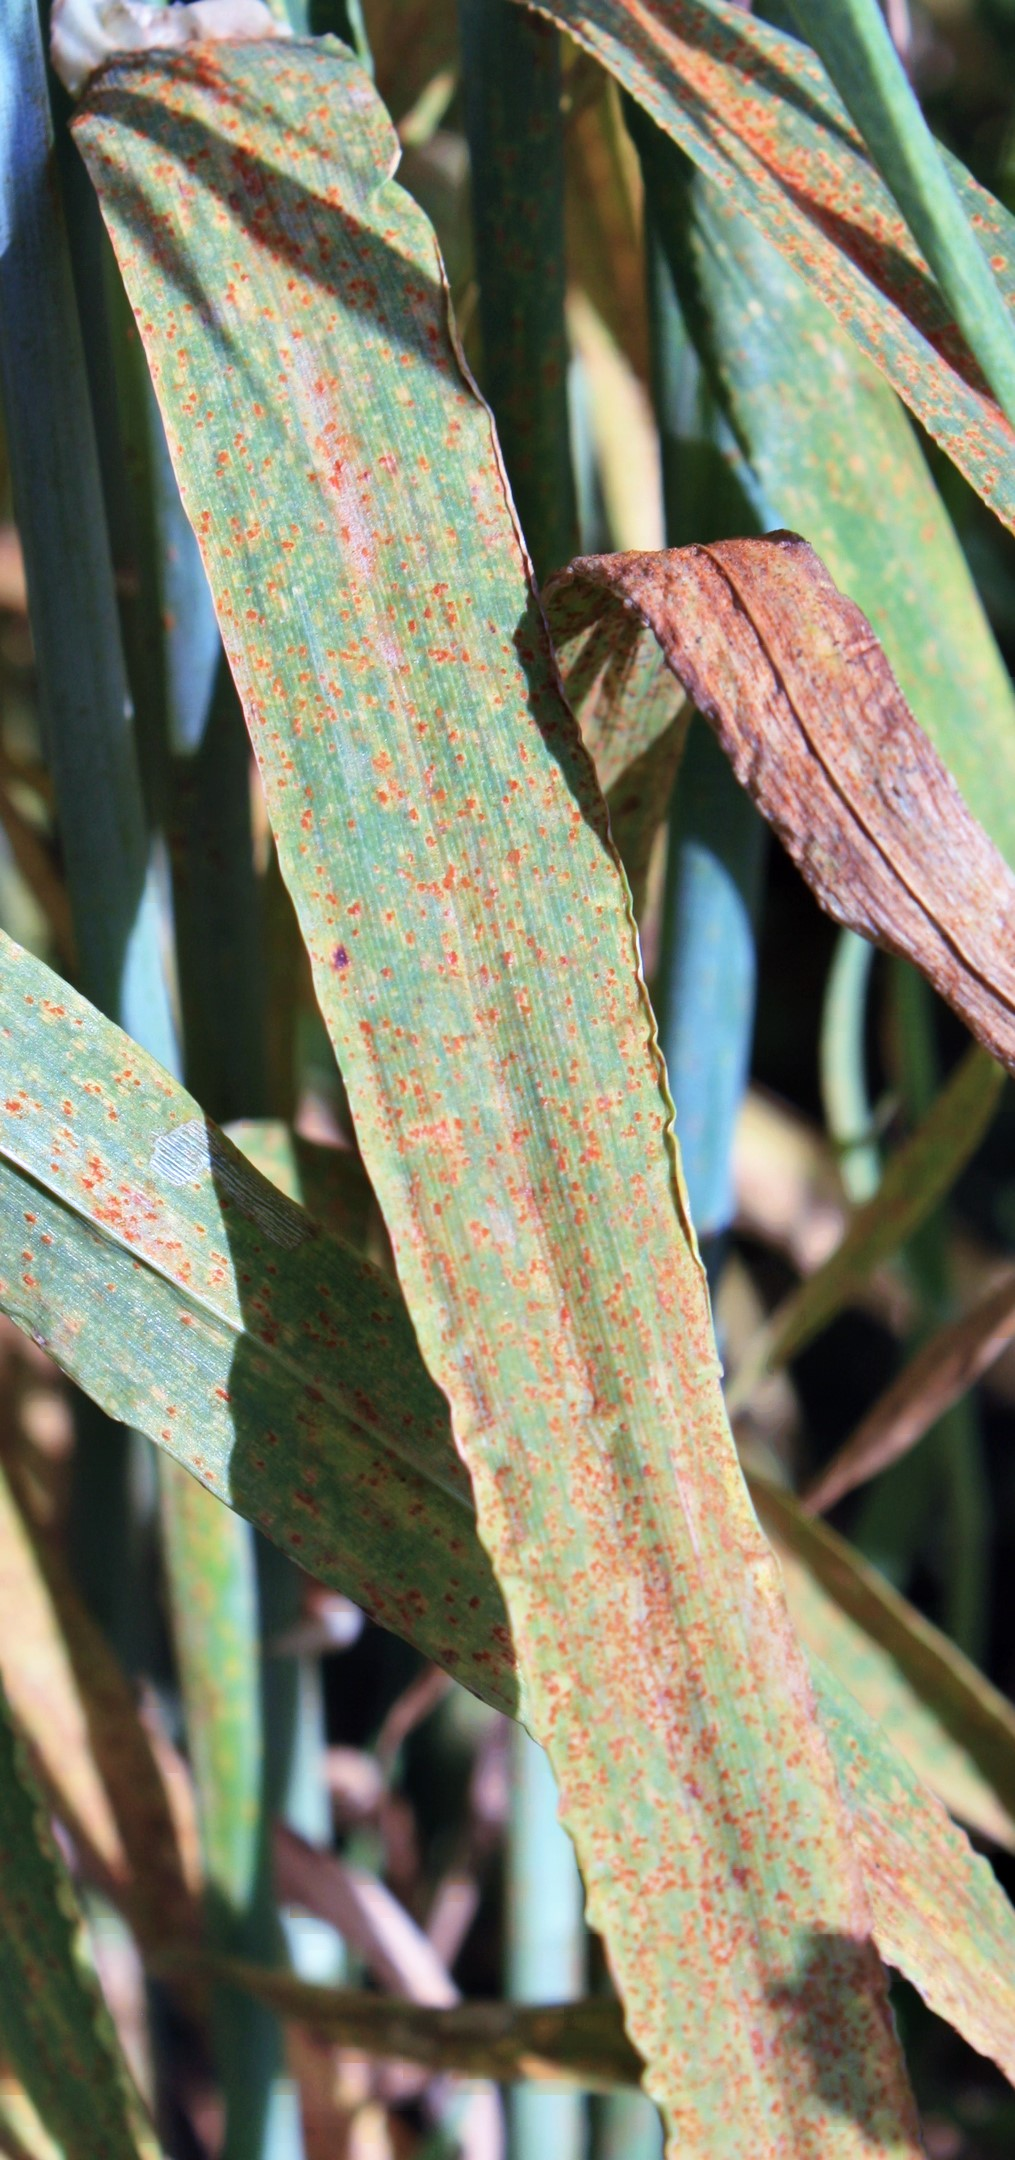Leaf Rust: (136, 229, 843, 1905)
